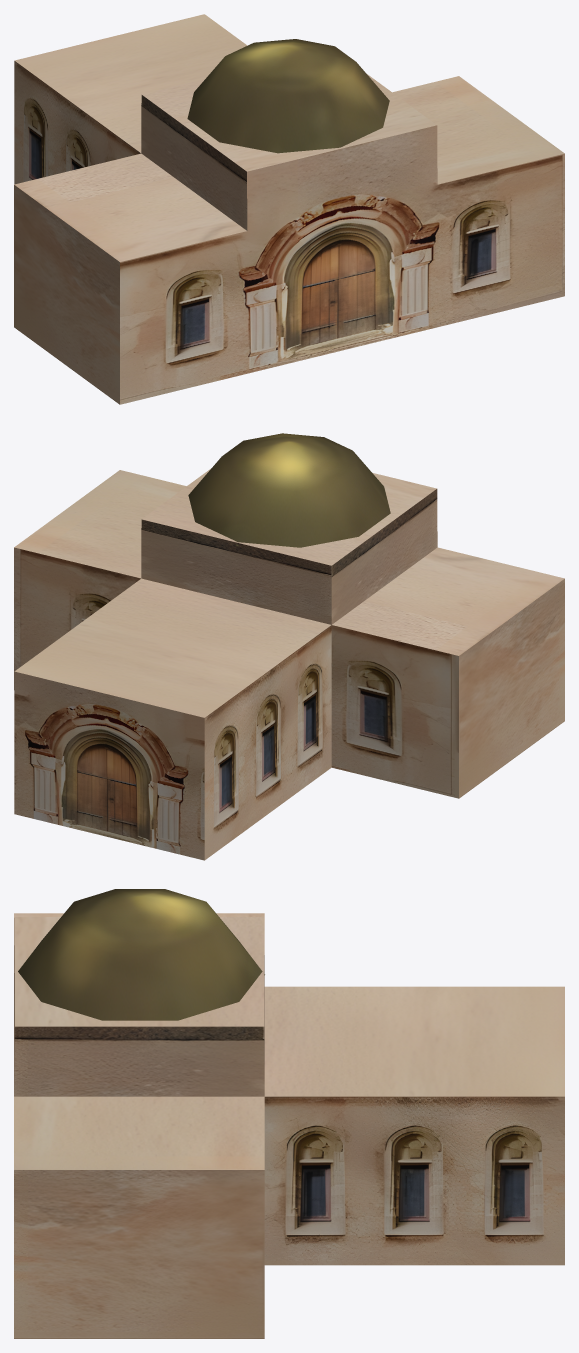
The model's file is mosque.gltf.
3 renders of one model, top to bottom at view 1: azimuth 30°, elevation 25°; view 2: azimuth 150°, elevation 25°; view 3: azimuth 270°, elevation 25°, orthographic. The views are drawn at different scales.
Visible parts, largest first — view 1: mosque_atomic0; view 2: mosque_atomic0; view 3: mosque_atomic0.
Part boxes in pixels (bbox=[...]): mosque_atomic0: bbox=[14, 14, 564, 404]; mosque_atomic0: bbox=[14, 433, 564, 860]; mosque_atomic0: bbox=[14, 889, 564, 1338].
Bounding box in the file's own units: 43.67 × 24.75 × 39.59.
Materials: 1 (1 with a texture image).
